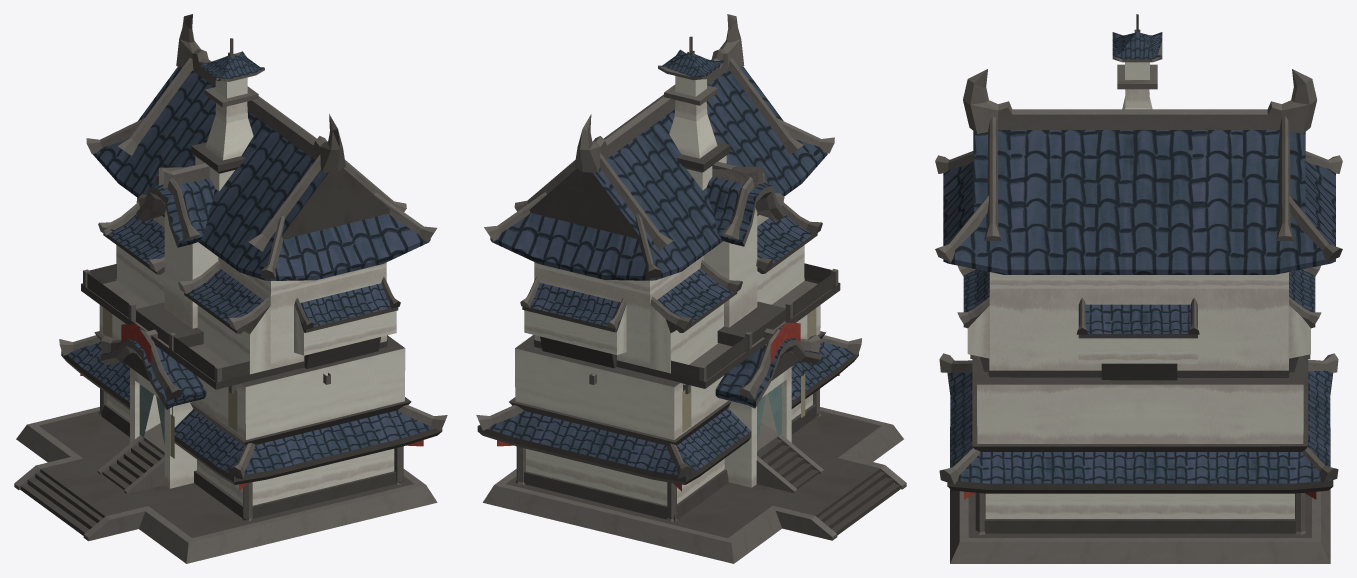
Rendered from ShangPu01.fbx.
3 renders of one model, left to right at view 1: azimuth 30°, elevation 25°; view 2: azimuth 150°, elevation 25°; view 3: azimuth 270°, elevation 25°, orthographic. The views are drawn at different scales.
Visible parts, largest first — view 1: ShangPu01; view 2: ShangPu01; view 3: ShangPu01.
Part boxes in pixels (bbox=[...]): ShangPu01: bbox=[14, 14, 447, 563]; ShangPu01: bbox=[476, 14, 906, 563]; ShangPu01: bbox=[935, 14, 1342, 563].
Bounding box in the file's own units: 579 × 769 × 588.
